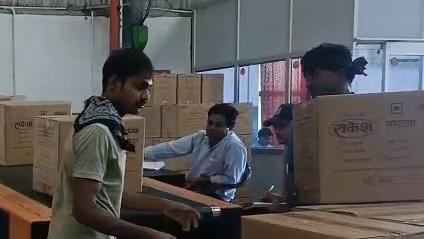box: (294, 91, 423, 203), (242, 211, 423, 238), (0, 101, 70, 165), (32, 115, 75, 195), (32, 115, 75, 194), (303, 201, 423, 223), (162, 103, 212, 137), (123, 115, 145, 171), (148, 74, 178, 106), (233, 103, 254, 137), (138, 106, 161, 137), (177, 74, 201, 103), (201, 74, 223, 103), (239, 135, 254, 170), (165, 154, 192, 172), (0, 96, 11, 100)
